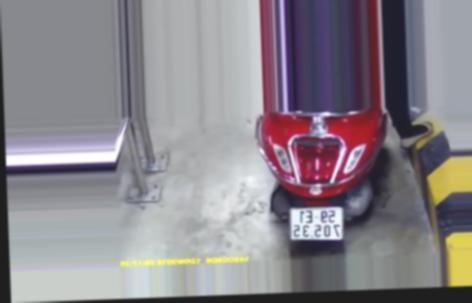License_Plate: (286, 205, 346, 246)
